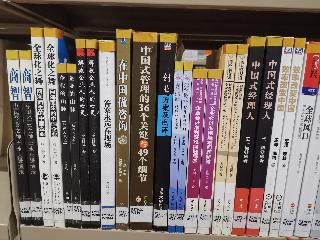book-spine: (274, 42, 320, 239), (244, 36, 283, 237), (267, 37, 306, 238), (257, 37, 295, 239), (229, 36, 267, 235), (126, 32, 159, 231), (220, 43, 249, 236), (209, 44, 237, 235), (29, 26, 55, 229), (151, 33, 177, 234), (195, 69, 224, 236), (5, 49, 32, 227), (18, 49, 44, 230), (43, 27, 66, 228), (97, 40, 119, 230), (183, 68, 208, 234), (114, 28, 133, 231), (73, 38, 92, 230), (174, 60, 194, 235), (166, 62, 184, 234), (56, 64, 74, 229), (86, 40, 101, 229), (66, 62, 82, 229)
